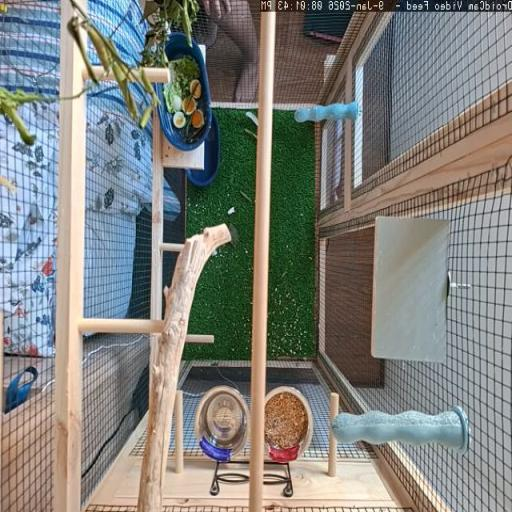bebedero: (196, 385, 249, 461)
comedero: (265, 386, 314, 463)
